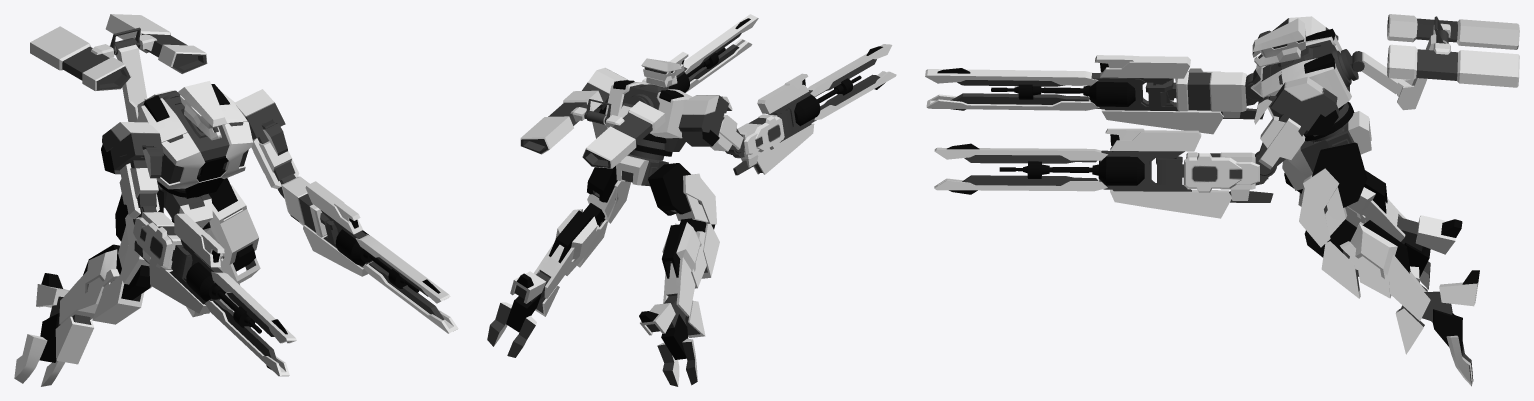
The model's file is striker_game_laser.fbx.
3 renders of one model, left to right at view 1: azimuth 30°, elevation 25°; view 2: azimuth 150°, elevation 25°; view 3: azimuth 270°, elevation 25°, orthographic. The views are drawn at different scales.
Parts seen in each view (by area): view 1: laser_rifle, body, back_booster, laser_rifle1, shoulder_right, thigh_left, leg_right, shoulder_left, upper_arm_right, head, thigh_right, heel_right (+12 smaller); view 2: laser_rifle, back_booster, leg_right, thigh_right, body, leg_left, laser_rifle1, shoulder_right, heel_right, thigh_left, heel_left, toe_left (+11 smaller); view 3: laser_rifle1, laser_rifle, back_booster, thigh_left, leg_left, body, arm_right, shoulder_left, arm_armer_left, heel_right, heel_left, leg_right (+14 smaller).
Boxes of the visible parts, x1,y1,x2,y2 form: laser_rifle: [149, 213, 296, 376]; body: [136, 84, 253, 198]; back_booster: [30, 14, 207, 90]; laser_rifle1: [303, 181, 458, 333]; shoulder_right: [101, 122, 163, 178]; thigh_left: [209, 178, 258, 264]; leg_right: [59, 244, 119, 324]; shoulder_left: [234, 89, 287, 155]; upper_arm_right: [119, 160, 159, 224]; head: [178, 81, 227, 140]; thigh_right: [115, 189, 164, 288]; heel_right: [36, 273, 69, 362]; laser_rifle: [753, 44, 896, 174]; back_booster: [520, 90, 665, 168]; leg_right: [662, 222, 706, 316]; thigh_right: [648, 163, 716, 224]; body: [605, 80, 692, 151]; leg_left: [533, 209, 600, 298]; laser_rifle1: [642, 14, 758, 92]; shoulder_right: [678, 95, 732, 146]; heel_right: [639, 295, 688, 359]; thigh_left: [587, 166, 630, 223]; heel_left: [506, 271, 550, 332]; toe_left: [487, 302, 536, 357]; laser_rifle1: [934, 128, 1231, 218]; laser_rifle: [925, 55, 1223, 134]; back_booster: [1387, 14, 1519, 87]; thigh_left: [1299, 142, 1367, 247]; leg_left: [1340, 220, 1430, 320]; body: [1260, 28, 1351, 136]; arm_right: [1168, 71, 1264, 119]; shoulder_left: [1254, 77, 1339, 135]; arm_armer_left: [1183, 153, 1259, 192]; heel_right: [1397, 215, 1462, 277]; heel_left: [1422, 270, 1479, 354]; leg_right: [1345, 170, 1406, 241].
Size of the model in its own units: 85.24 by 114 by 188.
1 material, 1 textured.
